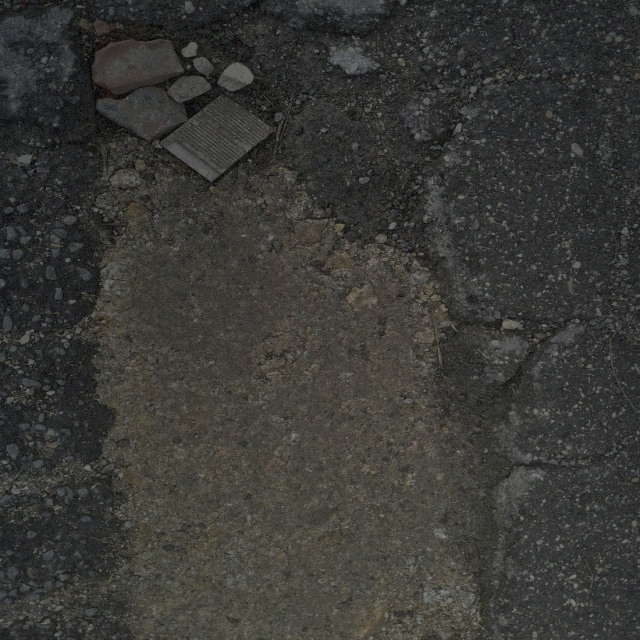pothole: (270, 12, 447, 260)
